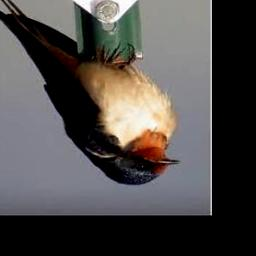Swallow: (0, 0, 180, 186)
